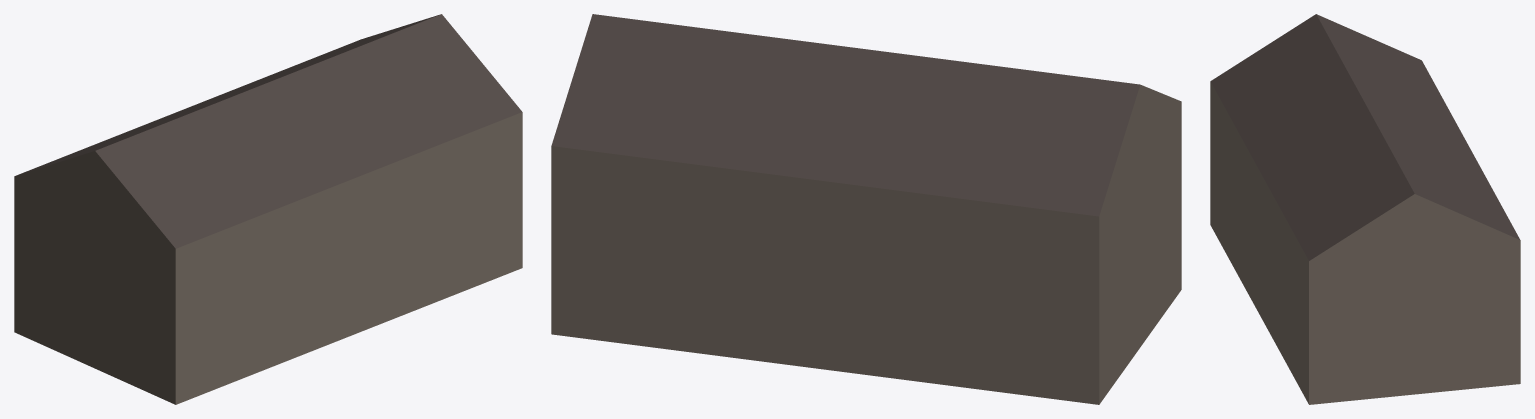
3 views of the same model, side by side, from view 1: azimuth 30°, elevation 25°; view 2: azimuth 150°, elevation 25°; view 3: azimuth 270°, elevation 25° (orthographic). The views are drawn at different scales.
Visible parts, largest first — view 1: HP-w859078908; view 2: HP-w859078908; view 3: HP-w859078908.
Part boxes in pixels (x1,y1,x2,y2): HP-w859078908: (14, 14, 522, 404); HP-w859078908: (551, 14, 1181, 404); HP-w859078908: (1210, 14, 1520, 404).
Bounding box in the file's own units: 26.97 × 12.56 × 17.6.
